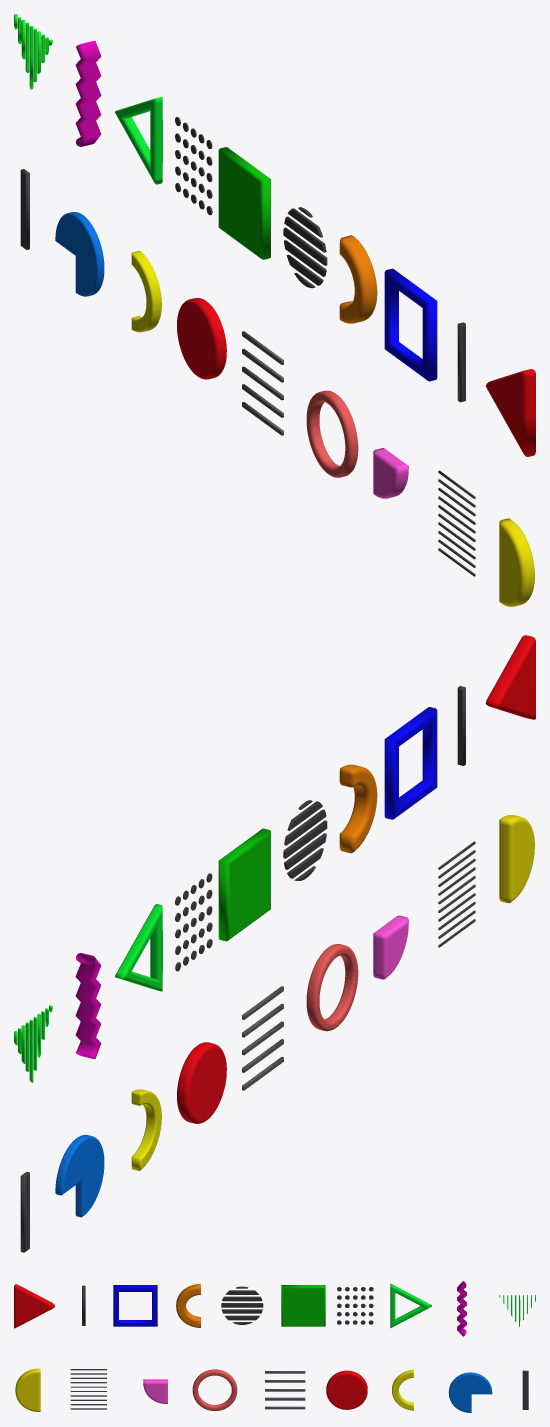
File: Memphis style.fbx
The picture shows the model from 3 angles, top to bottom: view 1: azimuth 30°, elevation 25°; view 2: azimuth 150°, elevation 25°; view 3: azimuth 270°, elevation 25°; orthographic projection. The views are drawn at different scales.
Parts seen in each view (by area): view 1: neliö, neliö2, ympyrä, kolmio, pacman, pymp, ympyrä2, C2, ympyrä3, rack, kolmio2, viivat2 (+7 smaller); view 2: neliö, neliö2, ympyrä, pacman, kolmio, pymp, ympyrä2, C2, ympyrä3, rack, kolmio2, pymp2 (+7 smaller); view 3: neliö, ympyrä, pacman, ympyrä3, kolmio, neliö2, pymp, ympyrä2, kolmio2, miami, viivat2, C2 (+6 smaller).
Part boxes in pixels (x1,y1,x2,y2): neliö: (218, 147, 270, 259); neliö2: (384, 268, 437, 381); ympyrä: (177, 298, 226, 379); kolmio: (486, 369, 535, 456); pacman: (55, 212, 104, 296); pymp: (499, 518, 534, 606); ympyrä2: (306, 390, 358, 477); C2: (339, 235, 377, 323); ympyrä3: (283, 207, 327, 288); rack: (75, 40, 101, 146); kolmio2: (115, 97, 162, 184); viivat2: (242, 331, 283, 435); neliö: (218, 828, 270, 941); neliö2: (384, 707, 437, 819); ympyrä: (177, 1042, 226, 1123); pacman: (55, 1134, 104, 1217); kolmio: (485, 635, 535, 719); pymp: (499, 815, 534, 903); ympyrä2: (306, 944, 358, 1031); C2: (339, 764, 377, 853); ympyrä3: (283, 800, 327, 880); rack: (75, 953, 101, 1058); kolmio2: (115, 904, 162, 991); pymp2: (373, 915, 408, 979); neliö: (281, 1285, 325, 1326); ympyrä: (326, 1370, 367, 1409); pacman: (448, 1372, 492, 1412); ympyrä3: (221, 1286, 263, 1324); kolmio: (14, 1284, 54, 1328); neliö2: (113, 1285, 157, 1326); pymp: (15, 1368, 40, 1411); ympyrä2: (192, 1369, 237, 1410); kolmio2: (390, 1283, 431, 1328); miami: (70, 1369, 106, 1409); viivat2: (265, 1371, 305, 1409); C2: (176, 1283, 200, 1327).
Size of the model in its own units: 48 by 615 by 2243.
